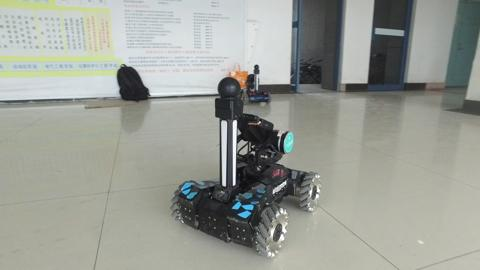bag: (113, 63, 152, 104), (226, 63, 249, 94)
chariot: (169, 75, 322, 260), (237, 63, 272, 105)
